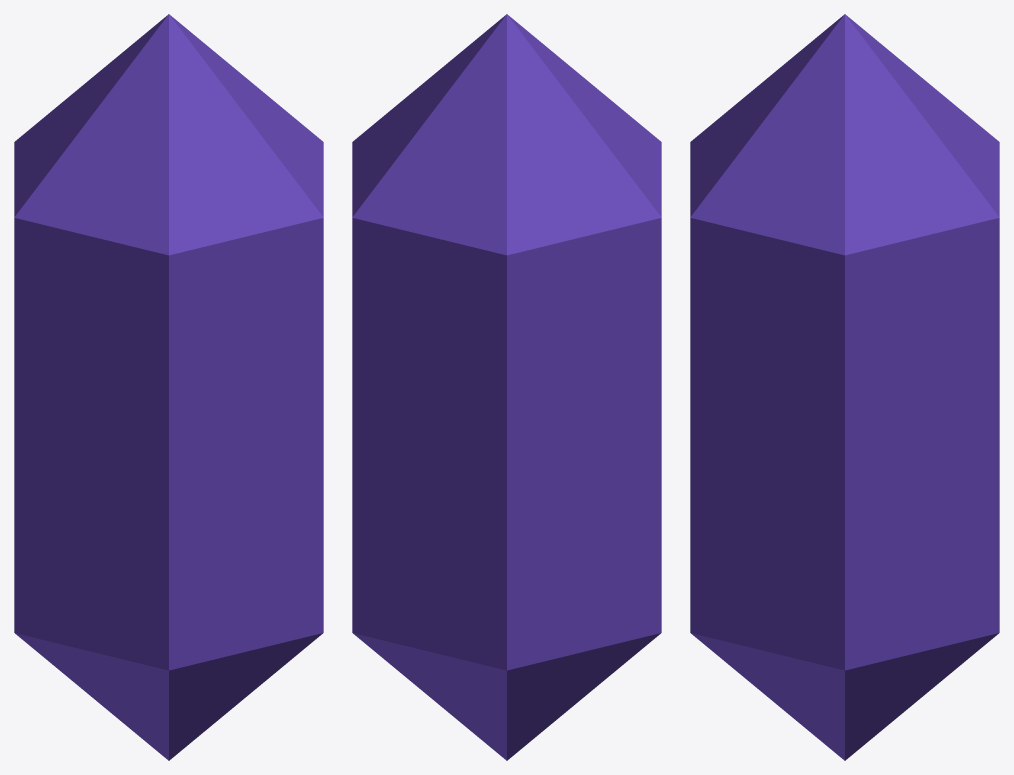
Rendered from Gem_7.fbx.
The picture shows the model from 3 angles, left to right: view 1: azimuth 30°, elevation 25°; view 2: azimuth 150°, elevation 25°; view 3: azimuth 270°, elevation 25°; orthographic projection.
Parts seen in each view (by area): view 1: Gem_7; view 2: Gem_7; view 3: Gem_7.
Part boxes in pixels (x1=…): Gem_7: x1=14, y1=14, x2=323, y2=760; Gem_7: x1=352, y1=14, x2=661, y2=760; Gem_7: x1=690, y1=14, x2=999, y2=760.
Bounding box in the file's own units: 32.49 × 74.9 × 28.14.
